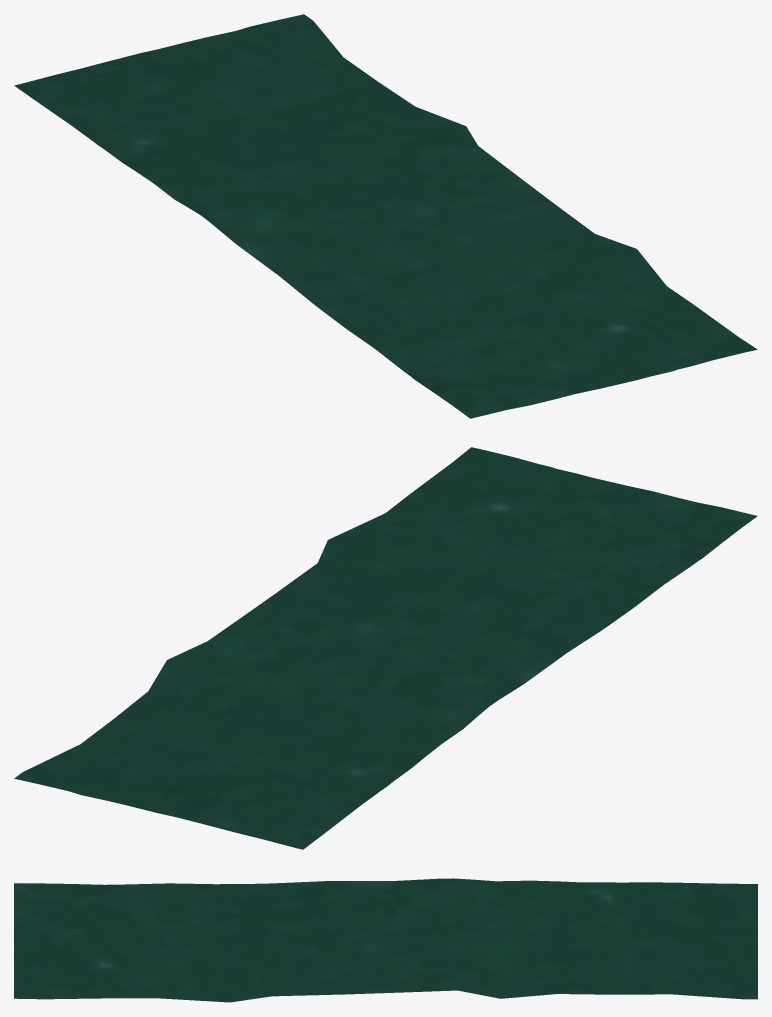
3 renders of one model, top to bottom at view 1: azimuth 30°, elevation 25°; view 2: azimuth 150°, elevation 25°; view 3: azimuth 270°, elevation 25°, orthographic. The views are drawn at different scales.
Size of the model in its own units: 19.76 by 0.607 by 52.22.
1 material, 1 textured.
